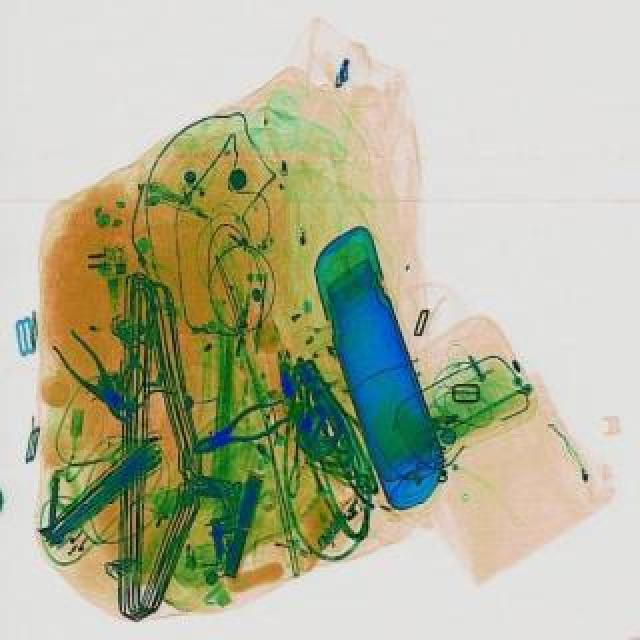wrench: (44, 324, 142, 430), (182, 392, 294, 464)
